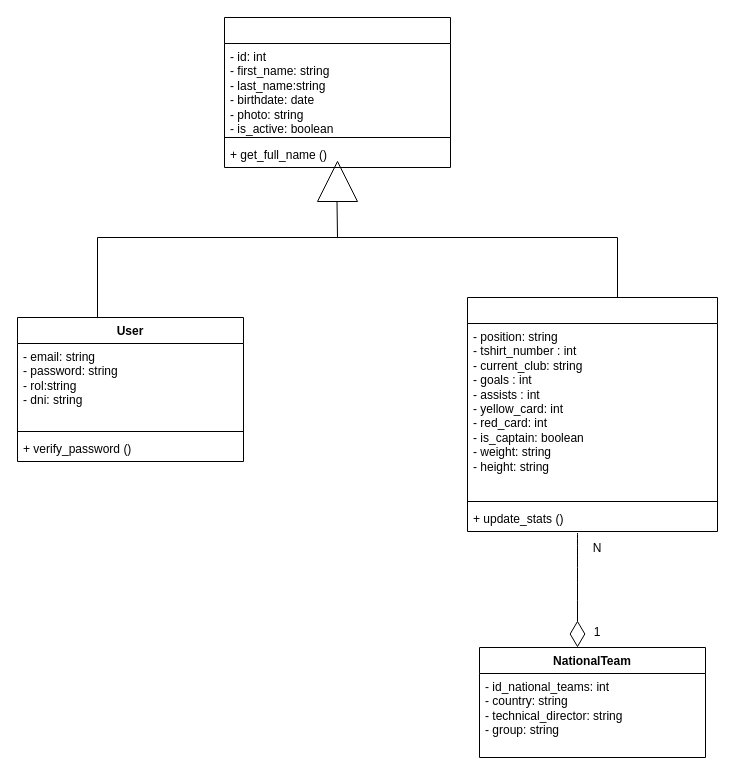
Image size: 735x778. Some labels were removed from this diagram. The box of each missing label's shape, as (x1, y1, x2, y2) in pixels:
Person: (224, 16, 450, 168)
Player: (466, 296, 718, 532)
